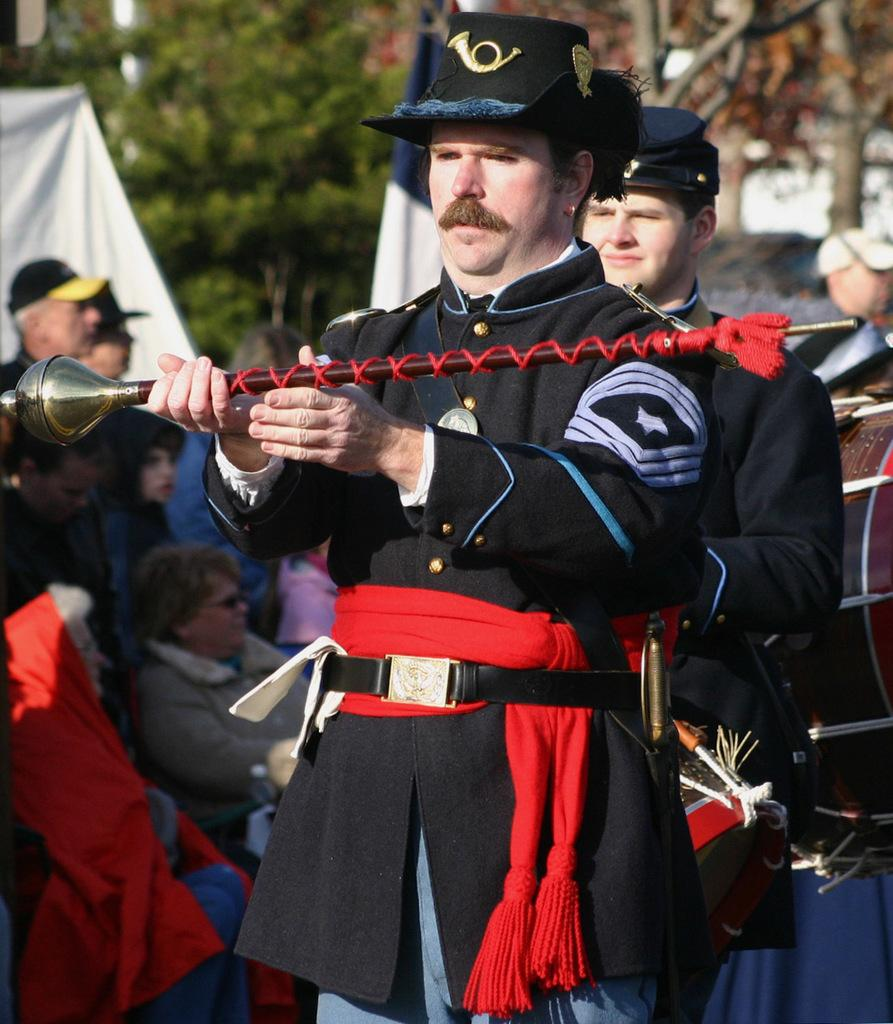Hat: (361, 12, 646, 214), (606, 98, 719, 190), (5, 251, 112, 312), (818, 227, 892, 277), (100, 278, 150, 326)
